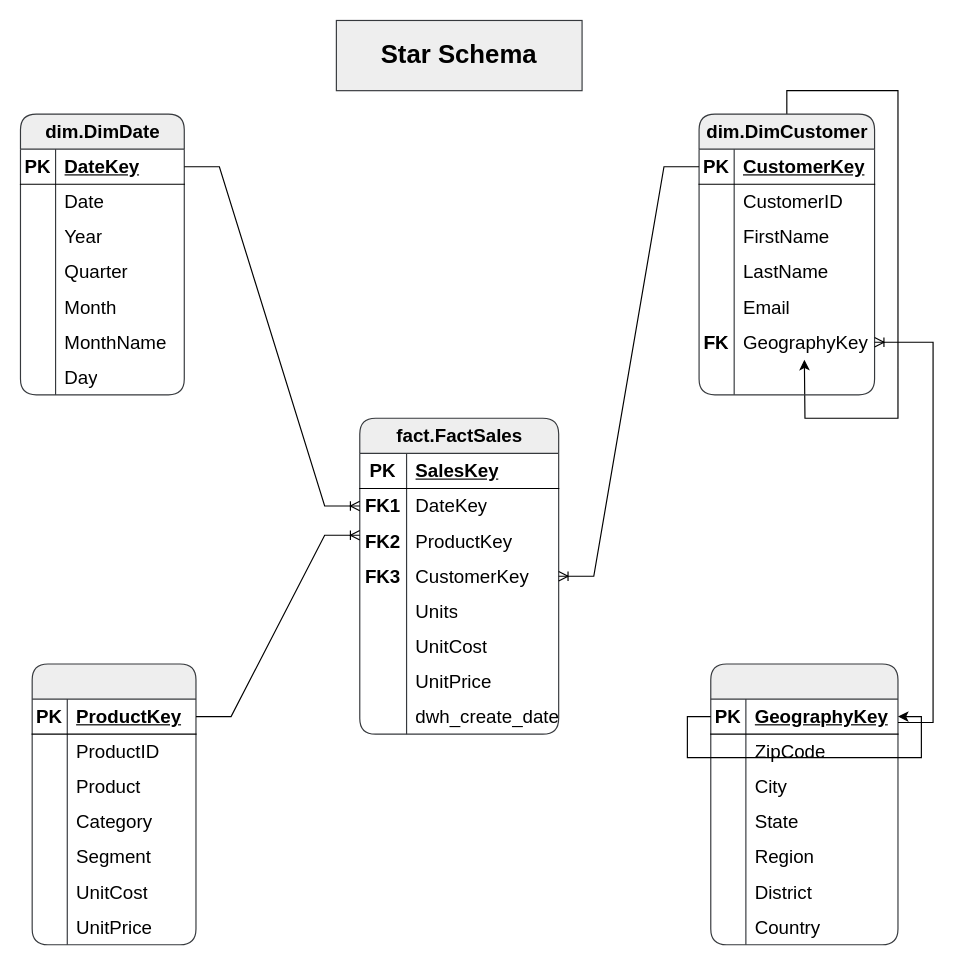
This 963x965 diagram has some shape labels left out. The box of each missing label's shape, as (x1, y1, x2, y2) in pixels:
dim.DimGeography: (710, 663, 898, 945)
dim.DimProduct: (31, 663, 196, 945)
